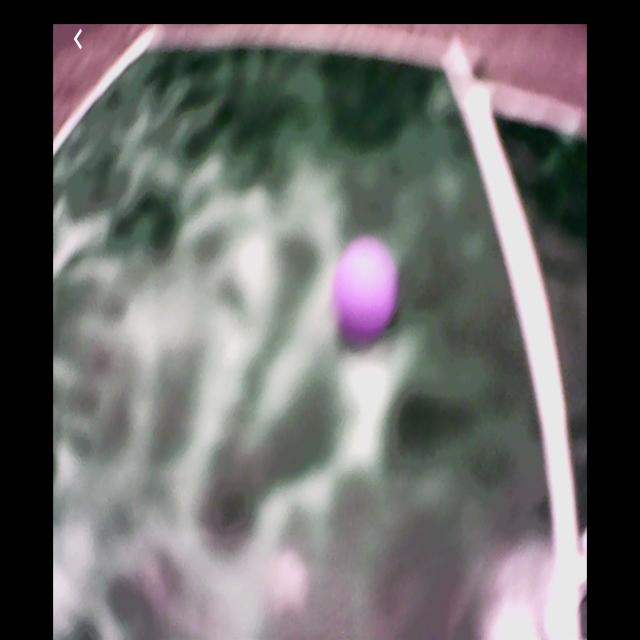ball: (334, 240, 398, 336)
